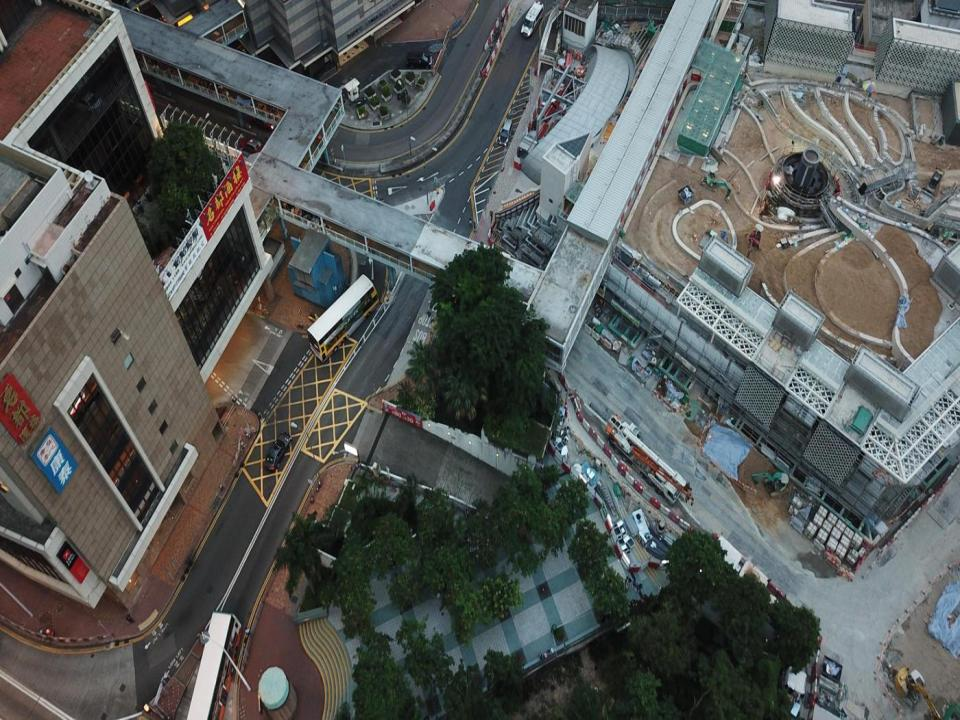bus: (305, 271, 380, 361), (185, 610, 244, 719)
car: (264, 433, 294, 469), (497, 118, 512, 145)
van: (521, 3, 543, 38)
